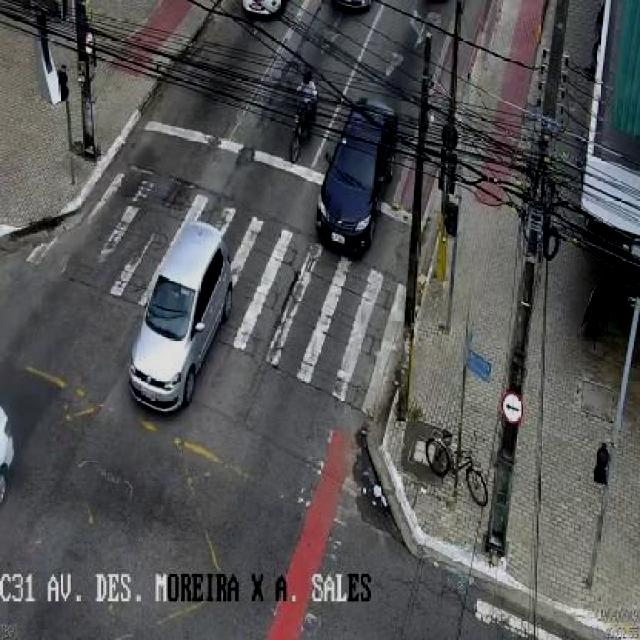Car: (127, 220, 233, 417), (314, 96, 400, 254)
Cycle: (425, 430, 490, 508), (286, 101, 318, 161)
